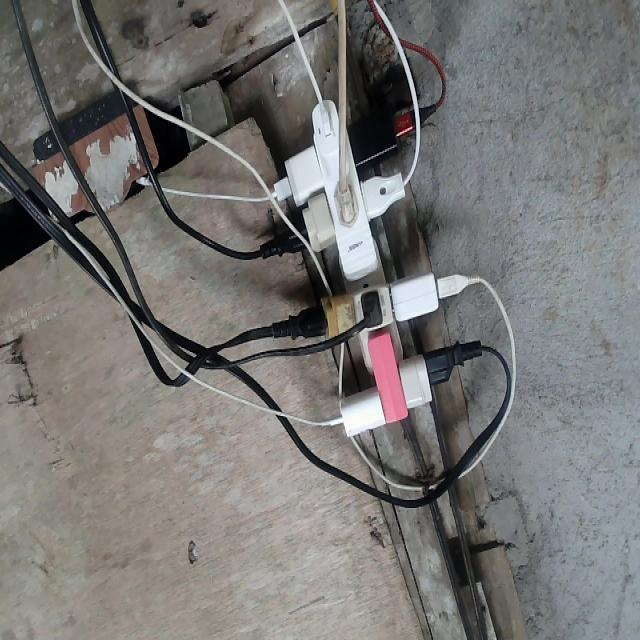-: (259, 89, 485, 440)
